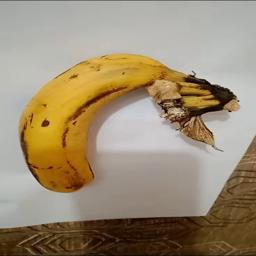Banana Semifresh: (16, 51, 239, 196)
